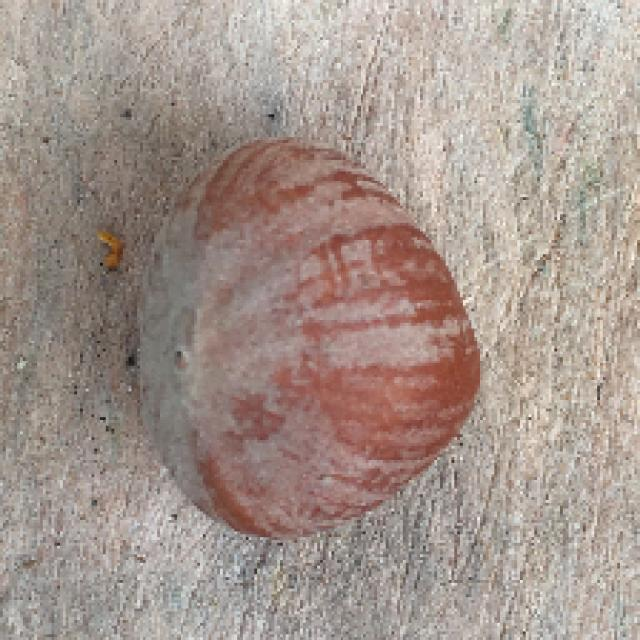qualityHazelnut: (115, 129, 493, 578)
